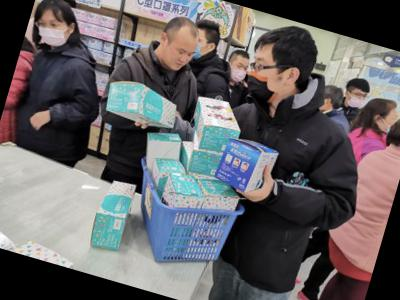with_mask: (240, 55, 288, 112), (31, 14, 73, 52), (228, 58, 251, 87), (346, 88, 371, 111)
without_mask: (159, 41, 197, 76)
